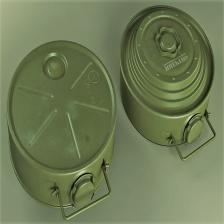TM-46: (117, 0, 217, 182), (19, 36, 114, 217)
